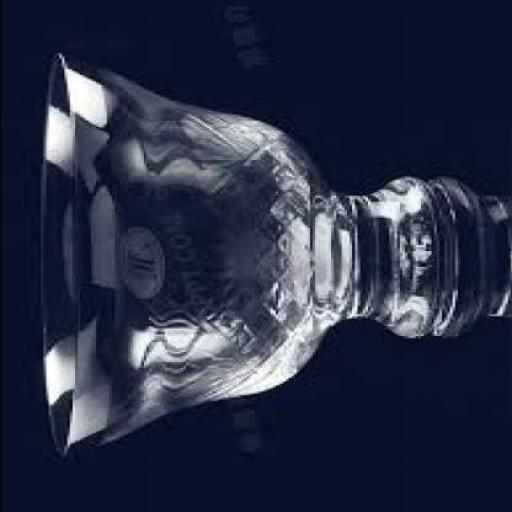glass: (34, 55, 456, 459)
